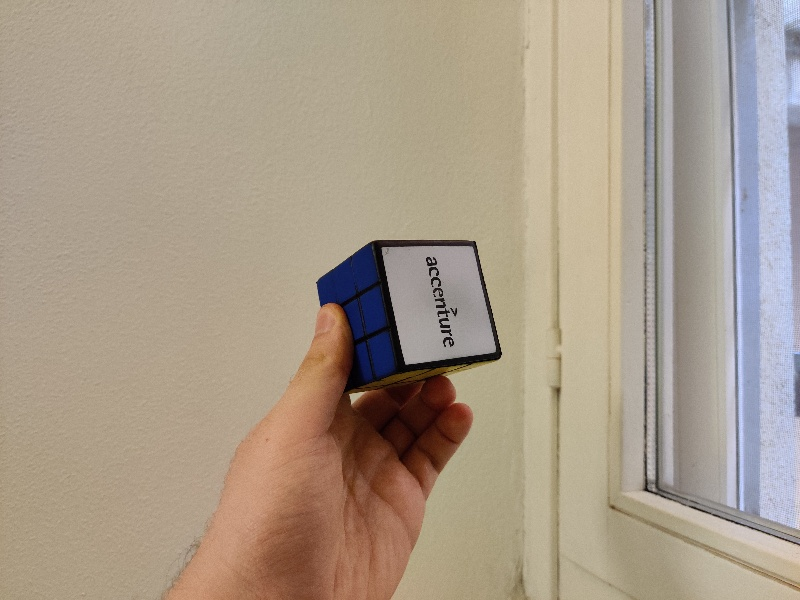rubik: (316, 240, 502, 395)
